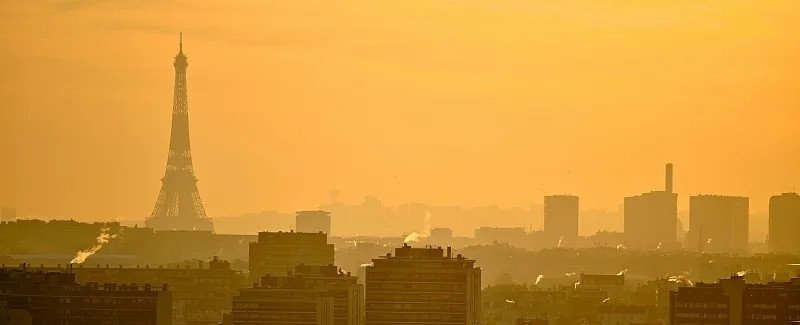Eiffel: (145, 33, 215, 234)
